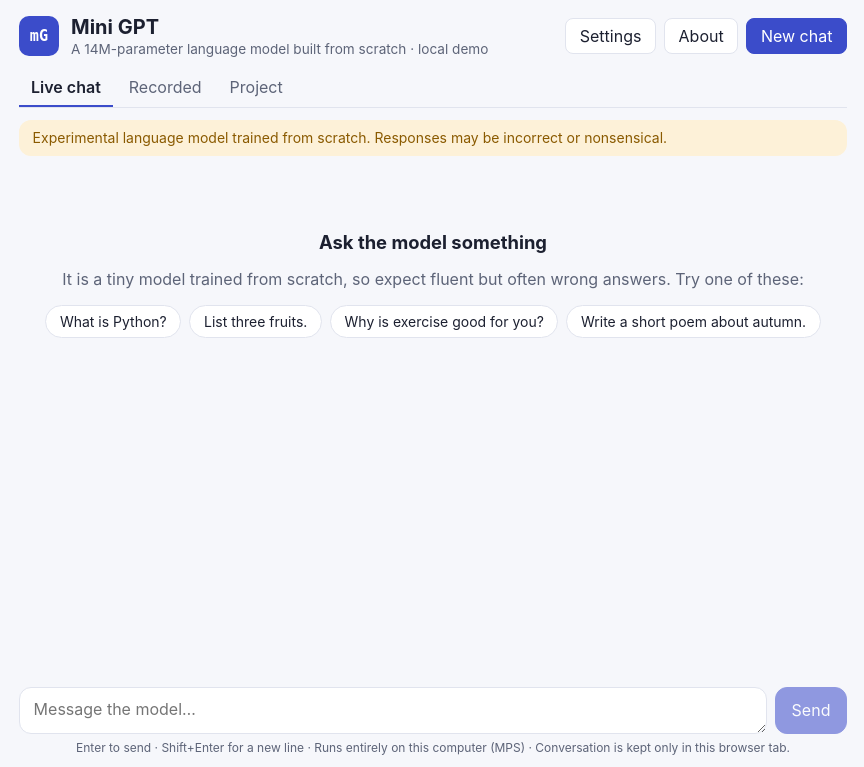
it: App › renders user and assistant messages with stop reason, tokens and duration
Type "What is Python?" into the text box labelled "Message". click: (393, 710)
box: [19,687,767,734]
Then press Enter
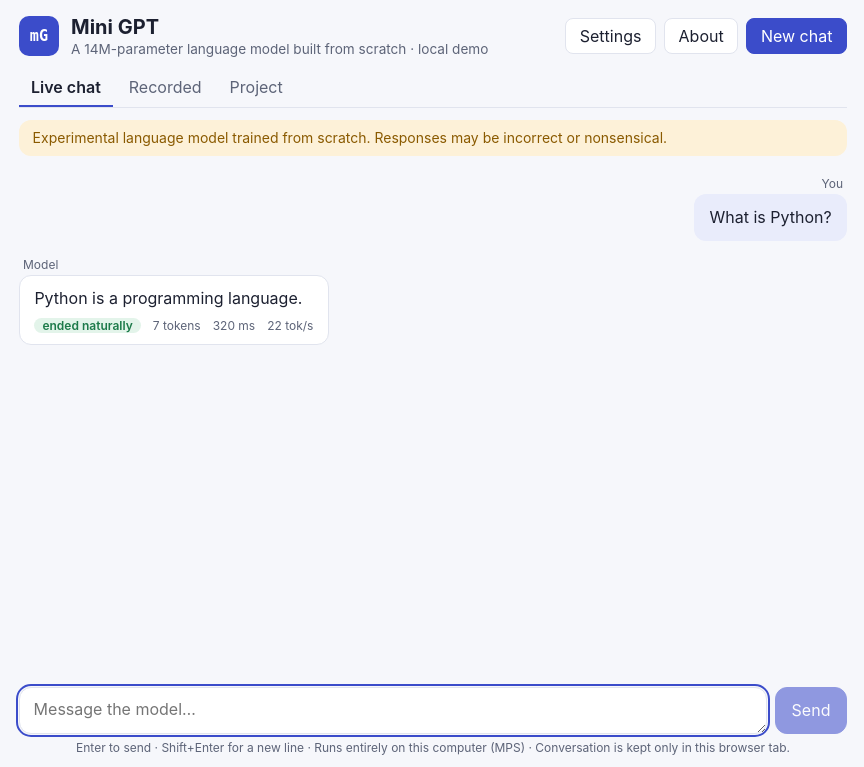
Expected: the text "Python is a programming language." is shown, [34,286,314,310]
Expected: the list item with test id "msg-user" shows "What is Python?", [710,207,832,227]
Expected: the list item with test id "msg-assistant" shows "ended naturally", [42,318,133,333]
